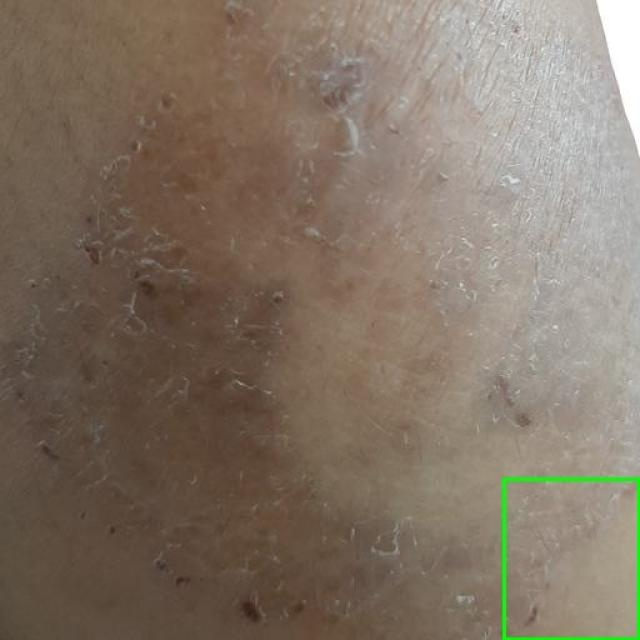Tinea Corporis: (504, 479, 639, 639)
